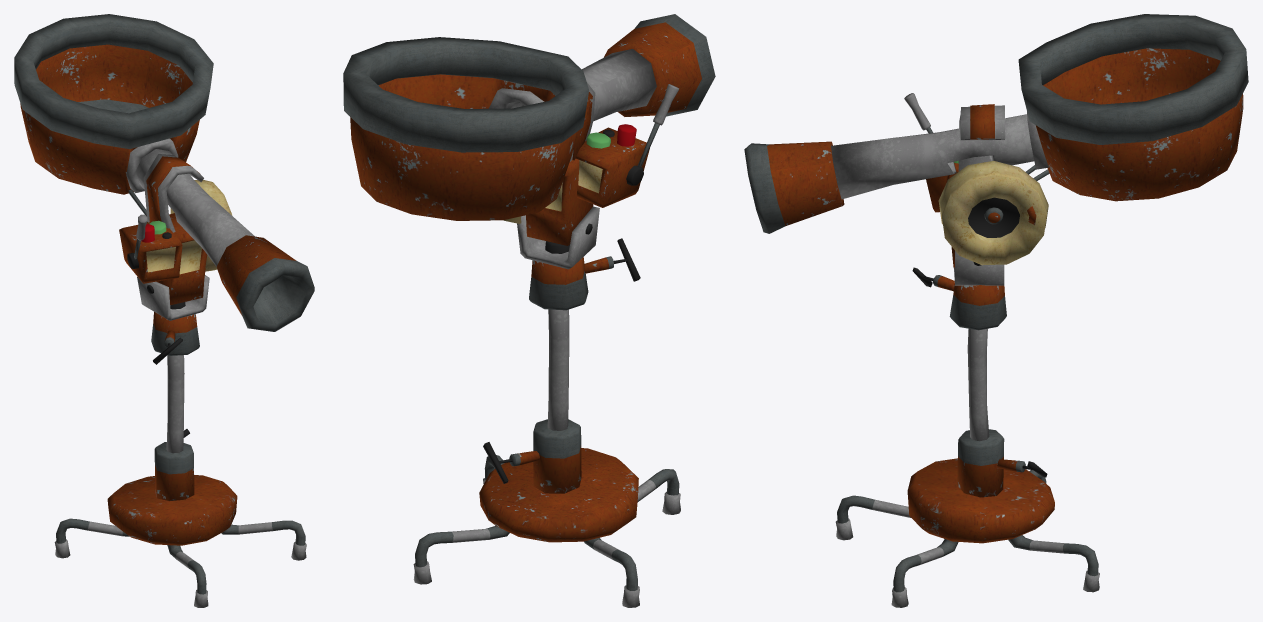
Rendered from pitching_machine.glb.
3 views of the same model, side by side, from view 1: azimuth 30°, elevation 25°; view 2: azimuth 150°, elevation 25°; view 3: azimuth 270°, elevation 25° (orthographic). The views are drawn at different scales.
Parts seen in each view (by area): view 1: Cube; view 2: Cube; view 3: Cube.
Part boxes in pixels (<box>): Cube: <box>14,14,314,607</box>; Cube: <box>343,14,715,607</box>; Cube: <box>744,14,1248,607</box>.
Size of the model in its own units: 1.39 by 3.15 by 2.83.
Materials: 7 (4 with a texture image).
